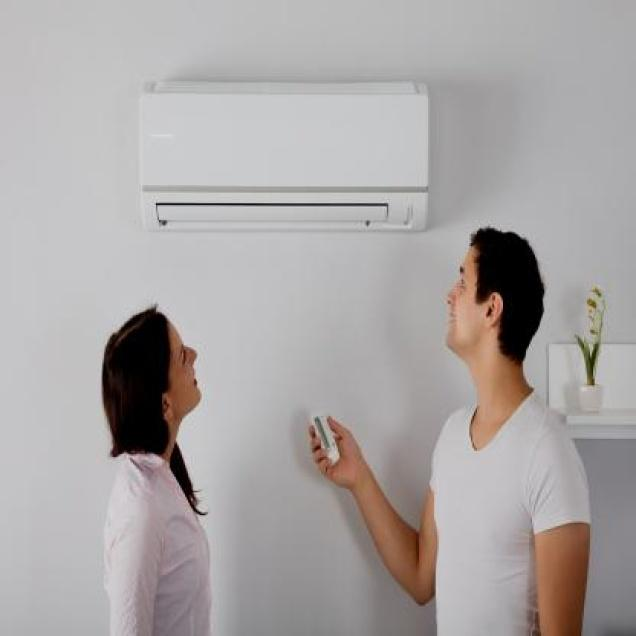AC: (139, 79, 430, 231)
